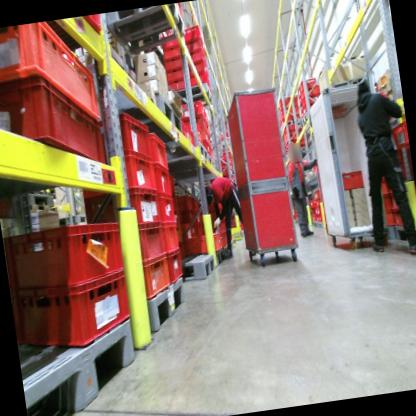pallet: (16, 315, 149, 416), (101, 2, 191, 64), (141, 273, 191, 334), (135, 87, 183, 141), (159, 133, 211, 180), (166, 78, 214, 114), (8, 182, 56, 217), (176, 247, 219, 283), (176, 152, 219, 179), (72, 209, 96, 233), (213, 246, 227, 267), (281, 117, 302, 130), (316, 219, 323, 231), (311, 218, 317, 229)
small_load_carrier: (0, 54, 109, 181), (9, 263, 137, 361), (0, 15, 103, 135), (4, 215, 128, 297), (78, 181, 165, 243), (152, 162, 232, 212), (103, 105, 152, 161), (109, 148, 157, 197), (139, 254, 172, 297), (135, 222, 167, 263), (185, 230, 223, 254), (147, 128, 169, 169), (71, 13, 107, 37), (160, 215, 181, 255), (154, 186, 176, 224), (165, 245, 186, 284), (182, 108, 208, 135), (390, 118, 409, 153), (178, 23, 207, 45), (340, 170, 367, 193), (387, 187, 409, 213), (179, 99, 205, 119), (391, 209, 409, 236), (385, 173, 408, 194), (183, 34, 205, 55), (160, 32, 181, 53), (187, 61, 210, 80), (183, 70, 210, 86), (183, 47, 207, 65), (181, 119, 196, 147), (176, 189, 194, 212), (215, 162, 235, 182), (301, 91, 322, 110), (297, 76, 318, 94), (298, 86, 320, 103), (162, 41, 182, 58), (194, 212, 207, 238), (180, 221, 195, 243), (188, 192, 203, 214), (214, 229, 232, 247), (160, 54, 183, 68), (162, 66, 183, 81), (212, 208, 234, 222), (178, 209, 197, 225), (382, 209, 397, 229), (166, 78, 186, 92), (378, 173, 391, 194), (380, 192, 394, 210), (214, 151, 232, 165), (195, 125, 209, 142), (176, 241, 187, 262), (214, 220, 229, 234), (302, 102, 313, 114), (203, 138, 210, 155), (313, 187, 322, 198), (316, 203, 323, 215), (313, 204, 319, 216), (314, 198, 322, 205), (309, 197, 315, 206), (318, 213, 324, 222), (315, 215, 319, 222)
